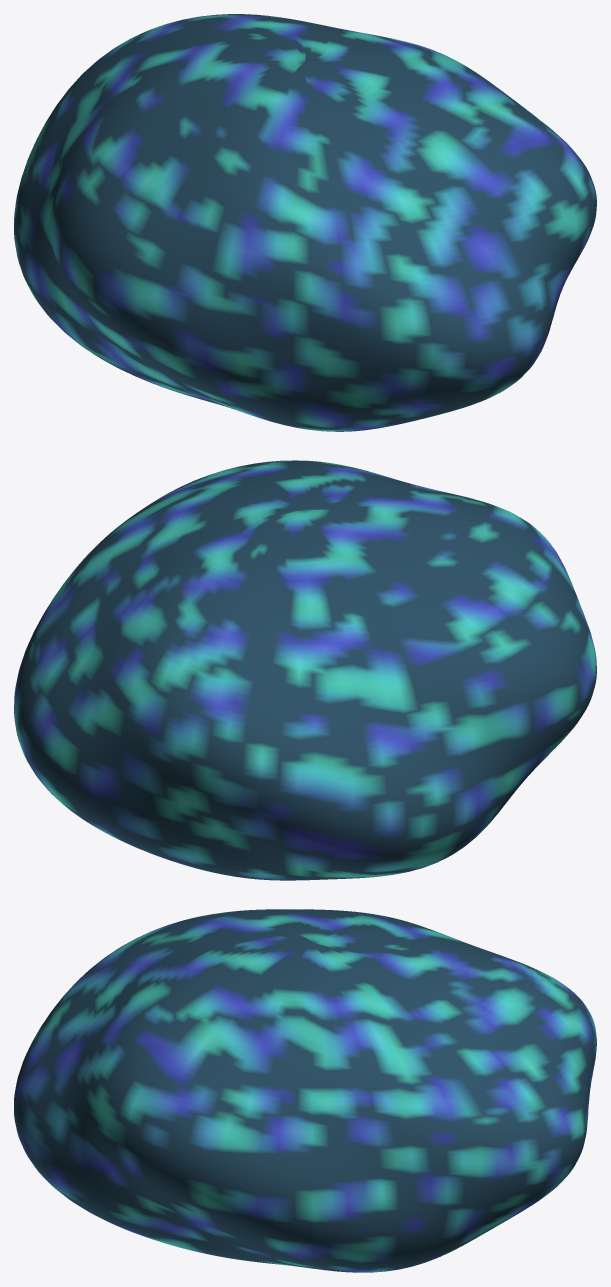
The model's file is labradorite.glb.
3 renders of one model, top to bottom at view 1: azimuth 30°, elevation 25°; view 2: azimuth 150°, elevation 25°; view 3: azimuth 270°, elevation 25°, orthographic. The views are drawn at different scales.
Parts seen in each view (by area): view 1: labradorite; view 2: labradorite; view 3: labradorite.
Part boxes in pixels (left/top/right/bottom): labradorite: left=14, top=14, right=596, bottom=431; labradorite: left=14, top=460, right=596, bottom=880; labradorite: left=14, top=909, right=596, bottom=1272.
Bounding box in the file's own units: 2.18 × 1.39 × 2.5.
